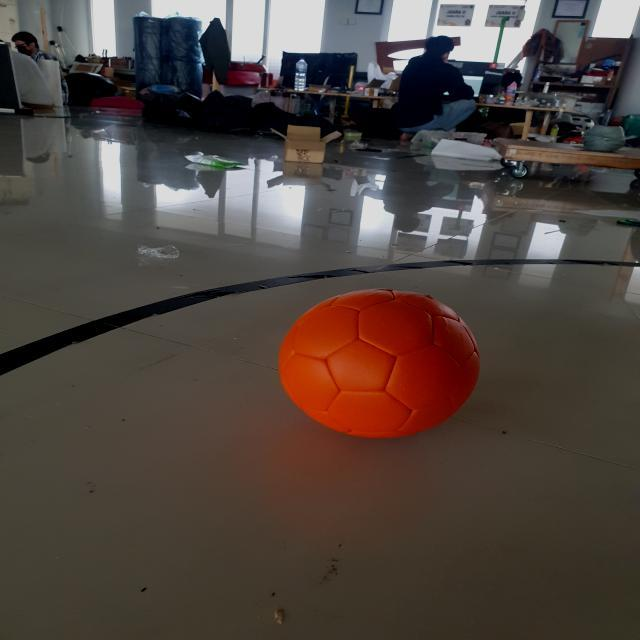bola: (270, 282, 487, 449)
